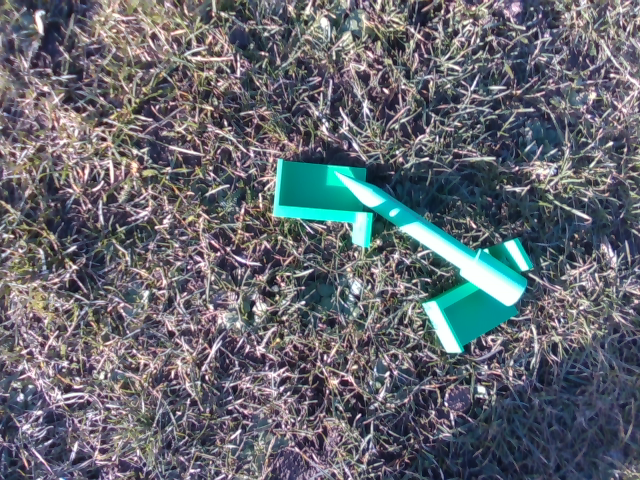Probe: (330, 168, 533, 309)
